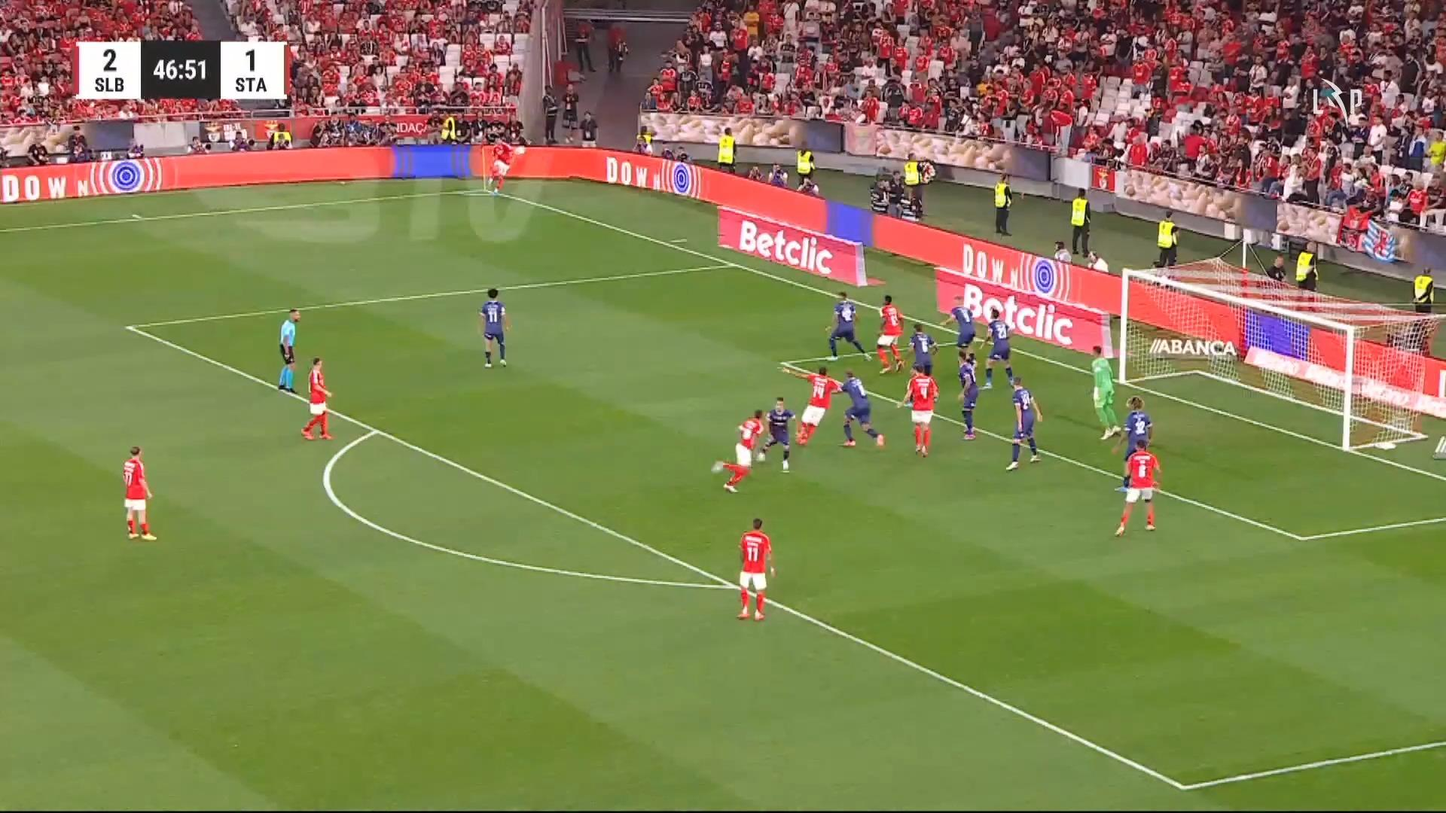ball: (516, 144, 525, 155)
goalkeeper: (1089, 344, 1121, 440)
player: (778, 362, 841, 446), (1113, 438, 1161, 537), (709, 408, 764, 493), (736, 516, 776, 620), (1112, 395, 1153, 492), (837, 369, 885, 448), (900, 361, 939, 458), (1005, 374, 1043, 470), (825, 290, 872, 363), (121, 445, 157, 540), (756, 396, 795, 471), (980, 306, 1014, 390), (300, 357, 334, 440), (940, 294, 976, 365), (478, 288, 509, 368), (875, 294, 905, 374), (487, 137, 525, 195), (956, 350, 978, 440), (907, 321, 938, 376)
referee: (277, 308, 300, 392)
